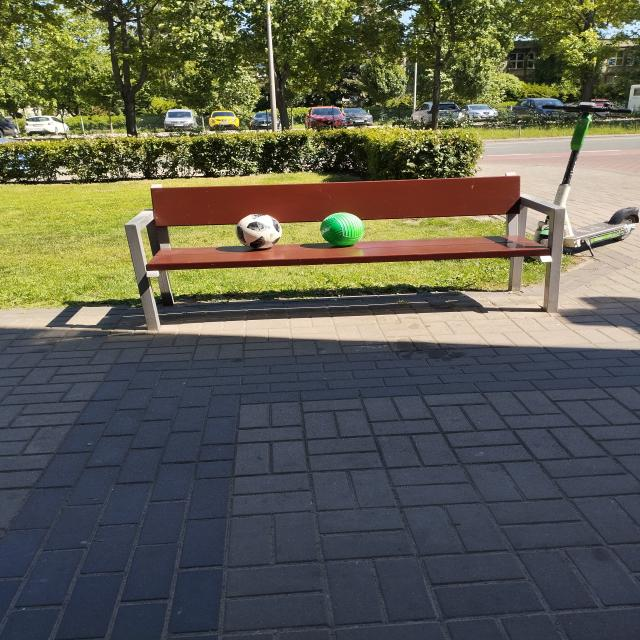nozna: (235, 214, 282, 249)
zielona: (321, 212, 364, 246)
